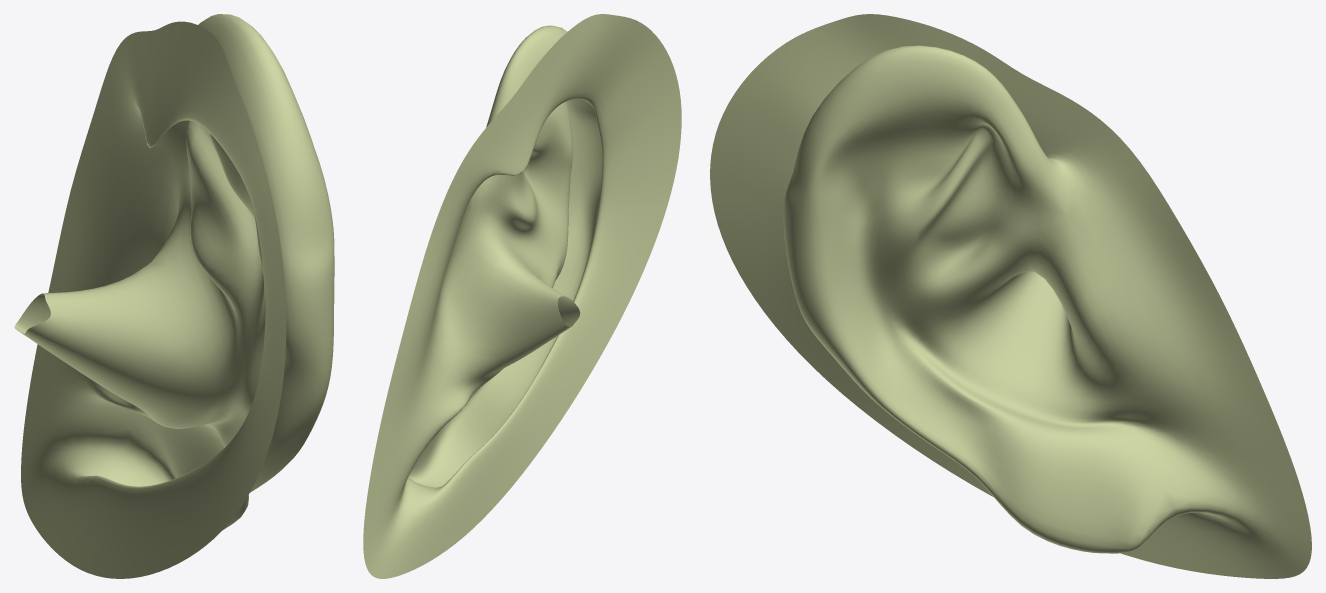
The model's file is ear.fbx.
The picture shows the model from 3 angles, left to right: view 1: azimuth 30°, elevation 25°; view 2: azimuth 150°, elevation 25°; view 3: azimuth 270°, elevation 25°; orthographic projection. The views are drawn at different scales.
Parts seen in each view (by area): view 1: Ear; view 2: Ear; view 3: Ear.
Boxes of the visible parts, x1,y1,x2,y2 form: Ear: [14, 14, 334, 578]; Ear: [363, 14, 681, 578]; Ear: [710, 14, 1311, 578].
Bounding box in the file's own units: 365 × 1128 × 1126.
